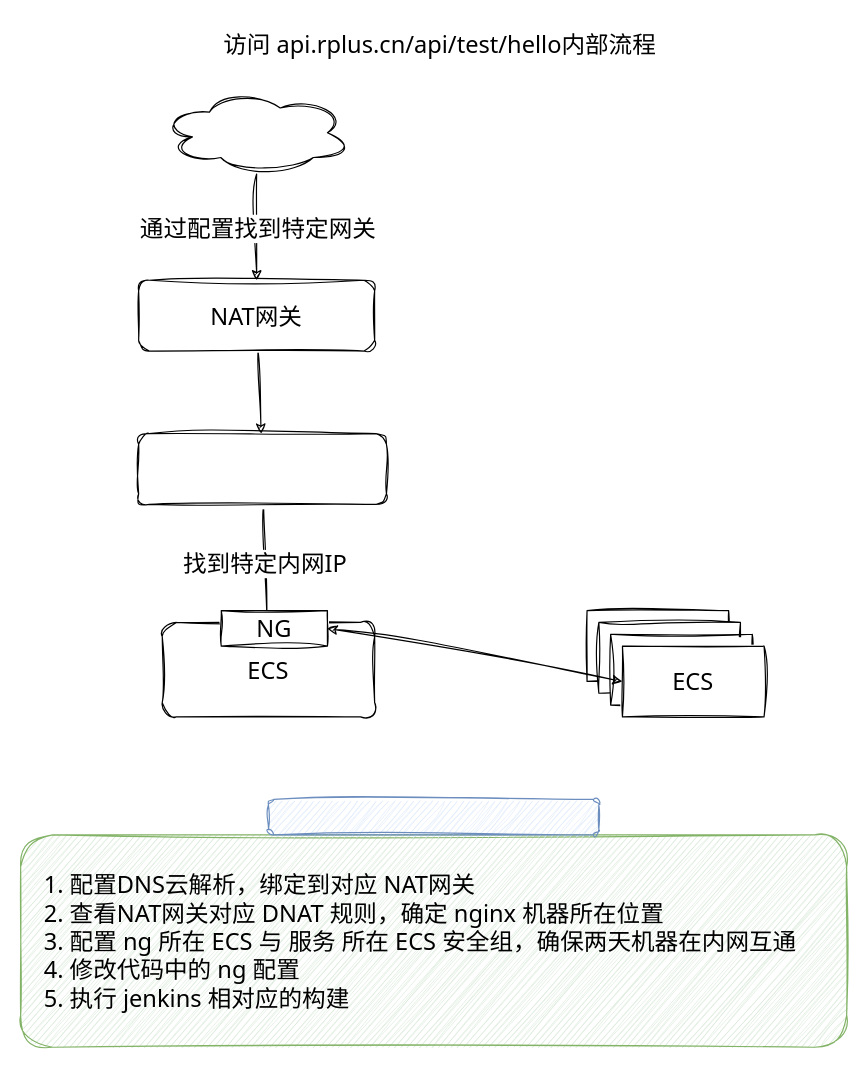
The diagram is 867 pixels wide and 1068 high, and some of its shapes have lost their labels. Here are the shapes that lost their labels. From the top down, the centre of each, then its label:
At point (256, 132): "DNS云解析".
At point (261, 468): "DNAT规则判断".
At point (433, 816): "有新服务来了怎么做？".
